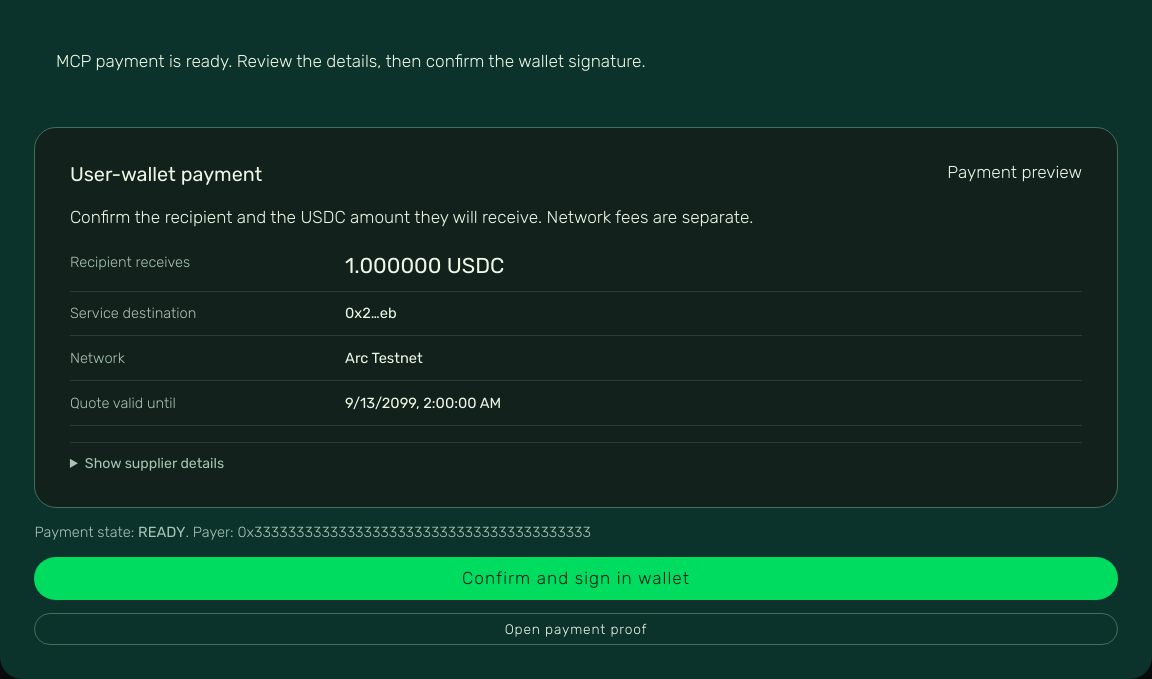
it: JobWorkspace payment inputs › opens an MCP-prepared job and signs it without importing transaction JSON
The image size is (1152, 679).
(page scrolled)
Expected: the text "MCP payment is ready. Review the details, then confirm the wallet signature." is shown, [34,30,1118,92]
Click the button "Confirm and sign in wallet" at (576,578), box [34,557,1118,600]
(page scrolled)
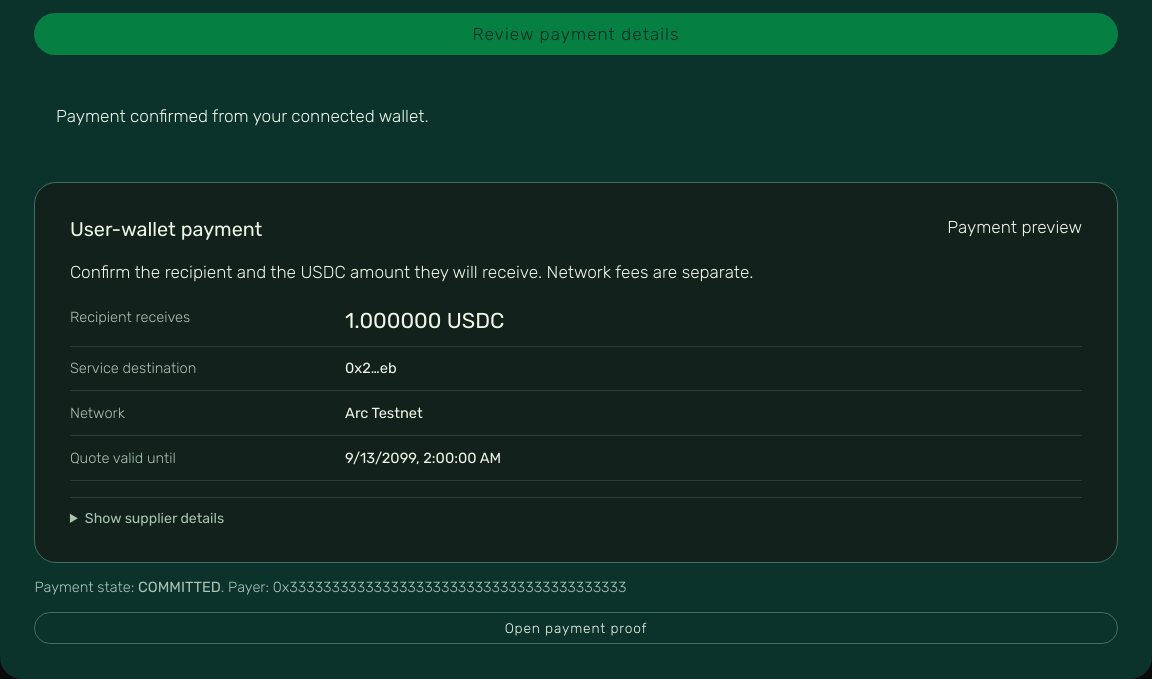
Now the text "Payment confirmed from your connected wallet." is shown, box [34,85,1118,147]
